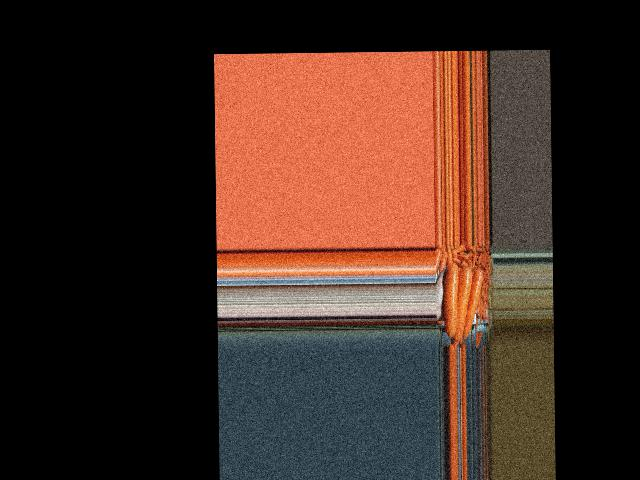carrot: (444, 261, 463, 339)
